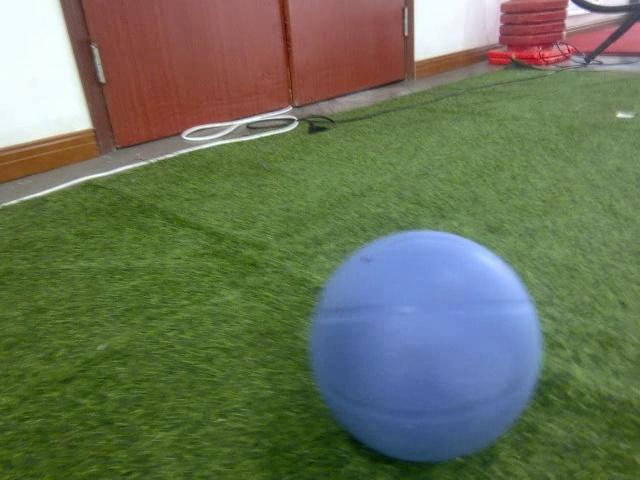blue_ball: (305, 229, 546, 467)
